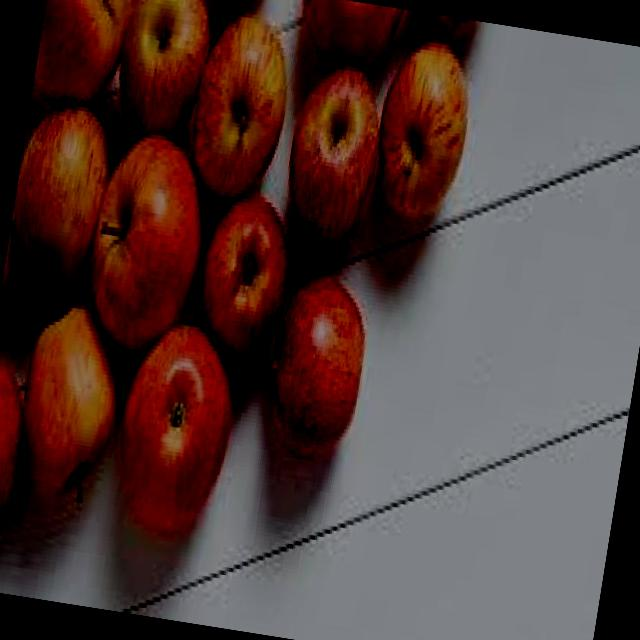Apple: (77, 124, 220, 358), (107, 314, 247, 540), (10, 294, 134, 502), (3, 95, 121, 302), (184, 4, 302, 208), (260, 267, 378, 463), (278, 56, 395, 248), (368, 32, 482, 228), (190, 186, 304, 369), (110, 0, 221, 145), (33, 0, 139, 112), (0, 344, 41, 573), (295, 0, 404, 73), (411, 11, 474, 38)
